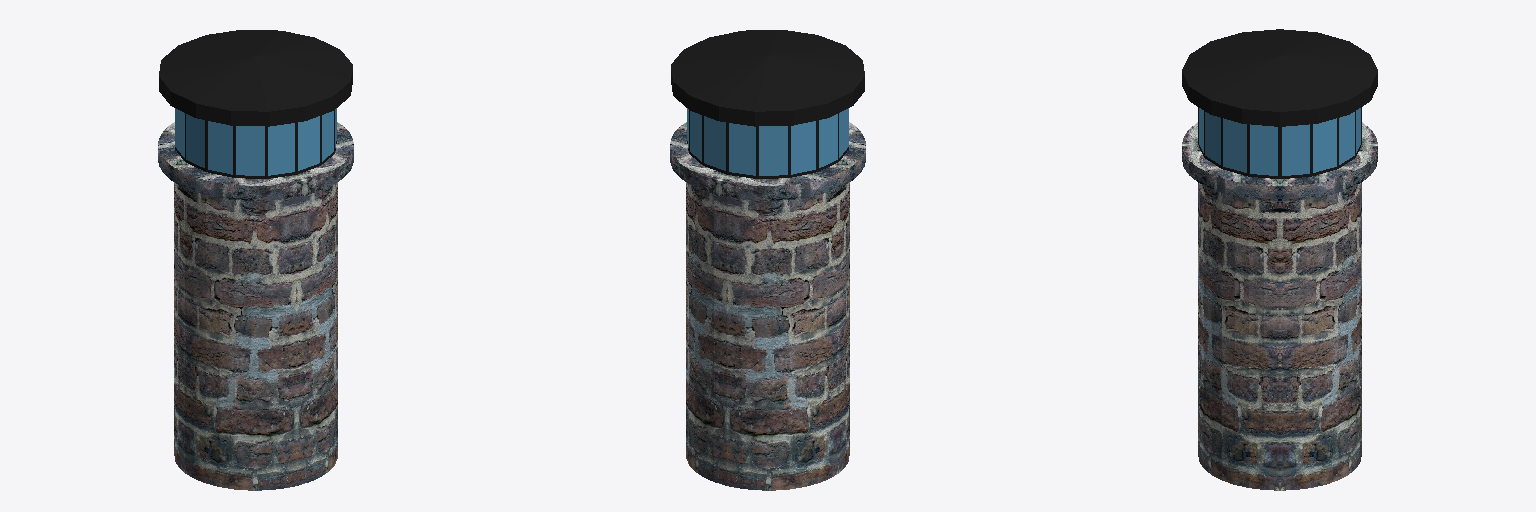
3 views of the same model, side by side, from view 1: azimuth 30°, elevation 25°; view 2: azimuth 150°, elevation 25°; view 3: azimuth 270°, elevation 25° (orthographic).
Parts seen in each view (by area): view 1: Circle; view 2: Circle; view 3: Circle.
Part boxes in pixels (bbox=[...]): Circle: bbox=[158, 30, 353, 490]; Circle: bbox=[670, 30, 865, 490]; Circle: bbox=[1182, 29, 1377, 490].
Size of the model in its own units: 2.4 by 5.4 by 2.4.
Materials: 4 (1 with a texture image).